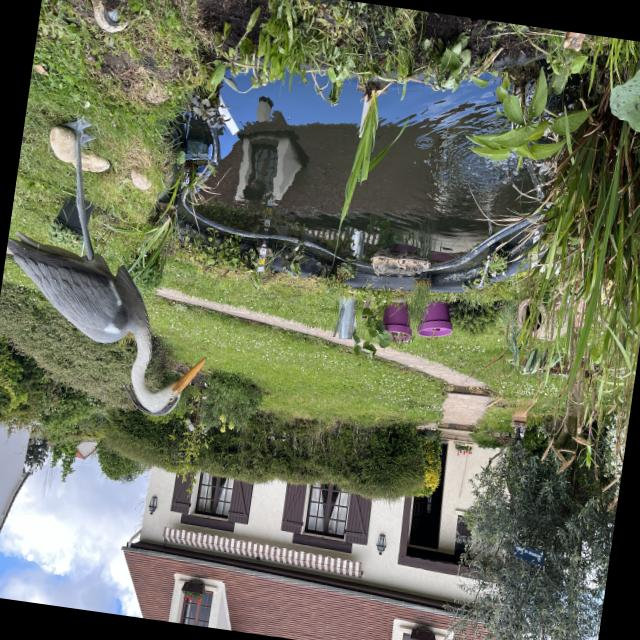Heron: (0, 73, 250, 429)
